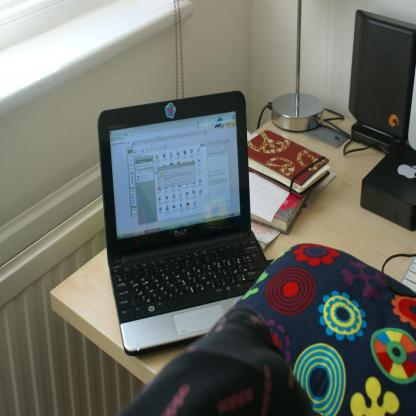board: (97, 91, 269, 356)
